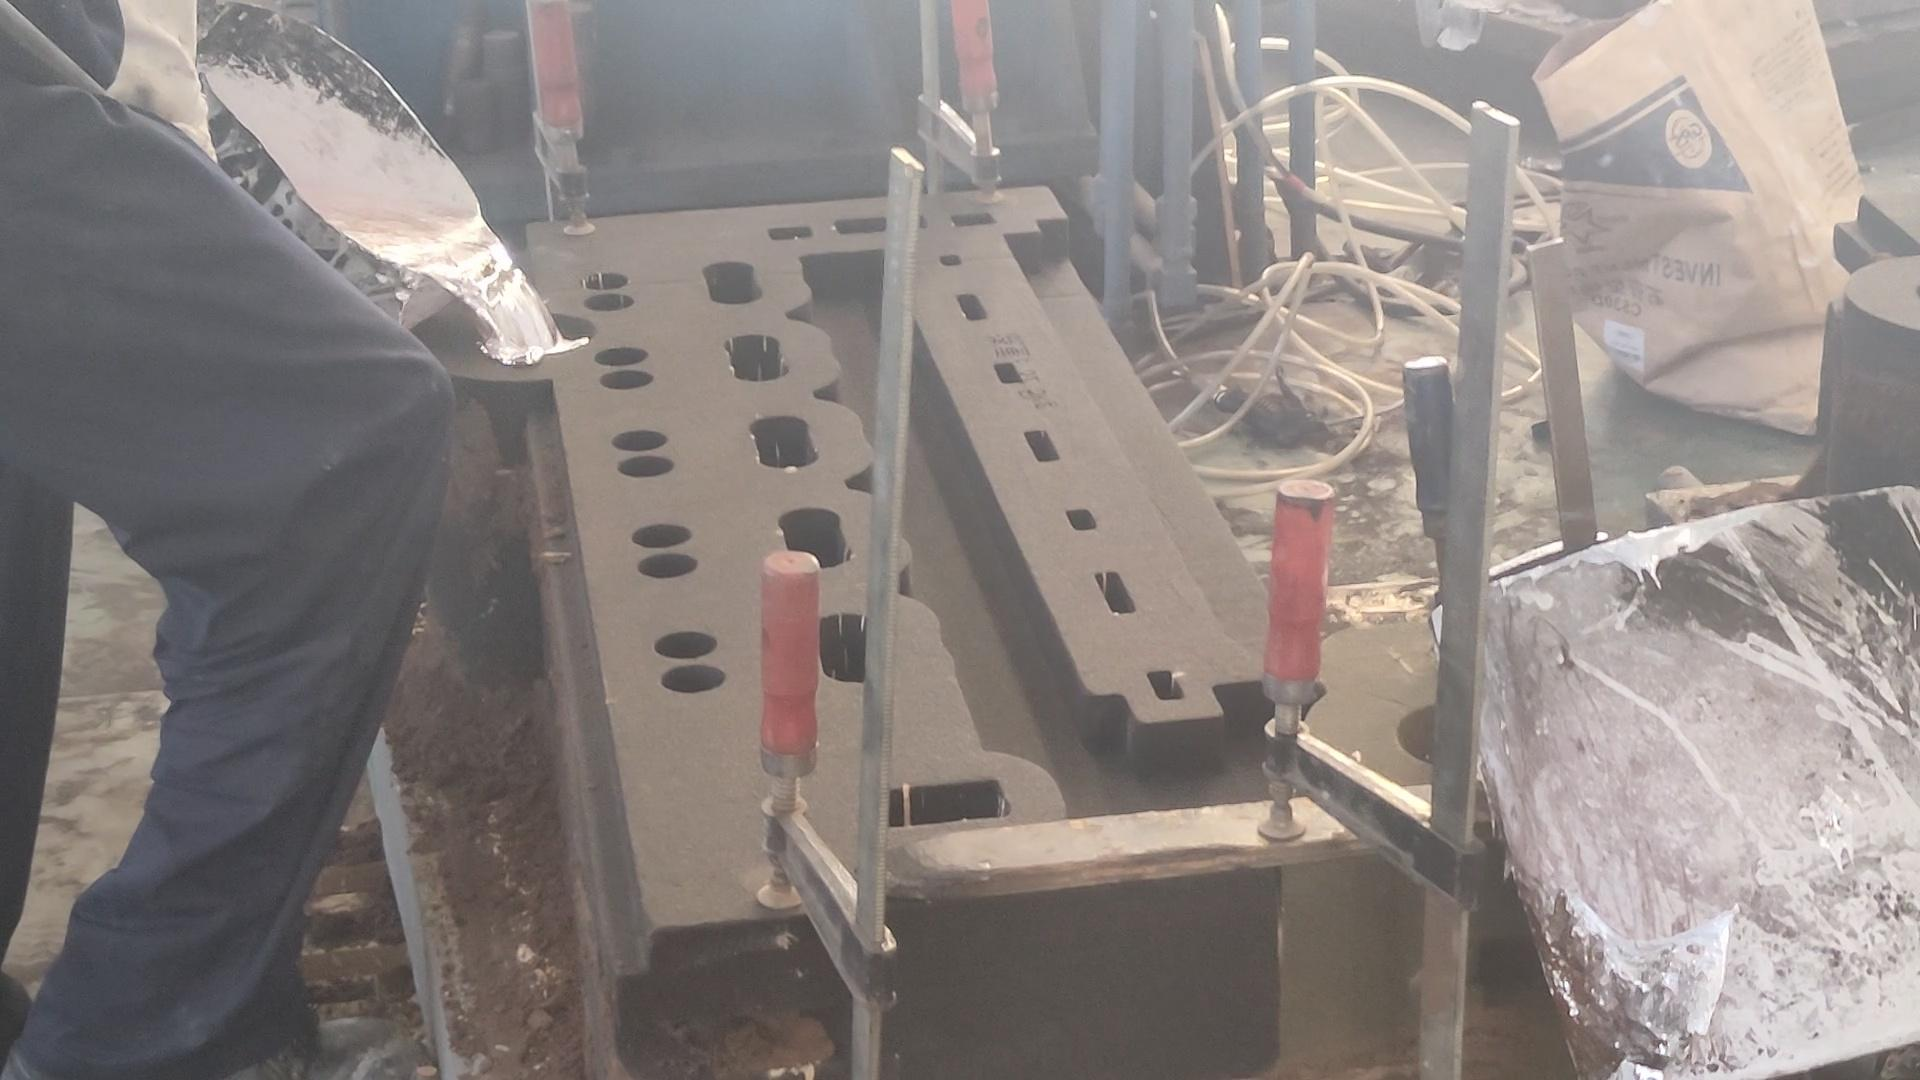pouring hole: (1396, 694, 1499, 765), (467, 311, 596, 357), (1913, 281, 1920, 298)
